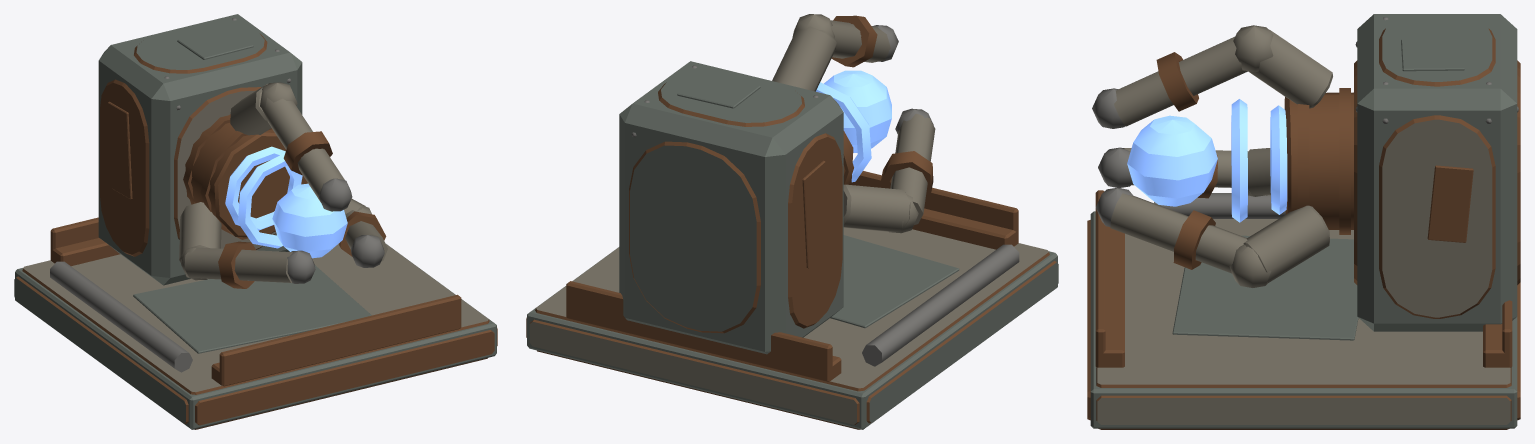
File: R4X_DirectionalEMP.fbx
The picture shows the model from 3 angles, left to right: view 1: azimuth 30°, elevation 25°; view 2: azimuth 150°, elevation 25°; view 3: azimuth 270°, elevation 25°; orthographic projection. The views are drawn at different scales.
Parts seen in each view (by area): view 1: R4X_DirectionalEMP_Body; view 2: R4X_DirectionalEMP_Body; view 3: R4X_DirectionalEMP_Body.
Boxes of the visible parts, x1,y1,x2,y2 form: R4X_DirectionalEMP_Body: (14, 14, 497, 429); R4X_DirectionalEMP_Body: (526, 14, 1058, 429); R4X_DirectionalEMP_Body: (1087, 14, 1520, 429).
Size of the model in its own units: 0.52 by 0.42 by 0.52.
